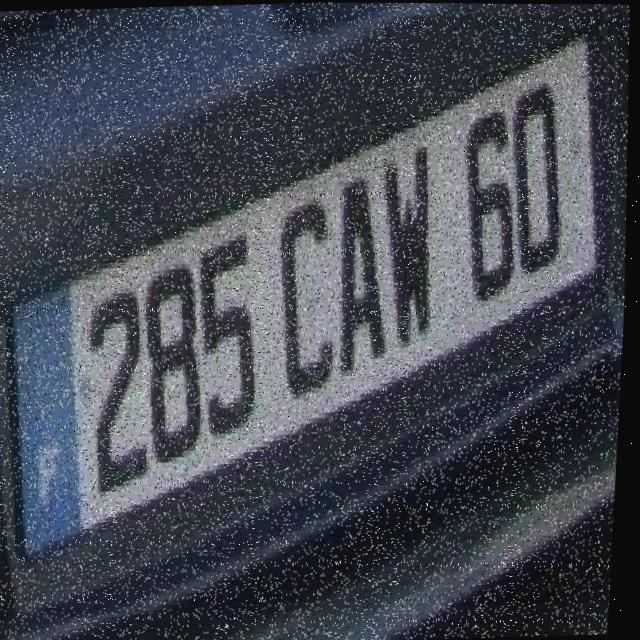LicensePlate: (0, 4, 640, 622)
